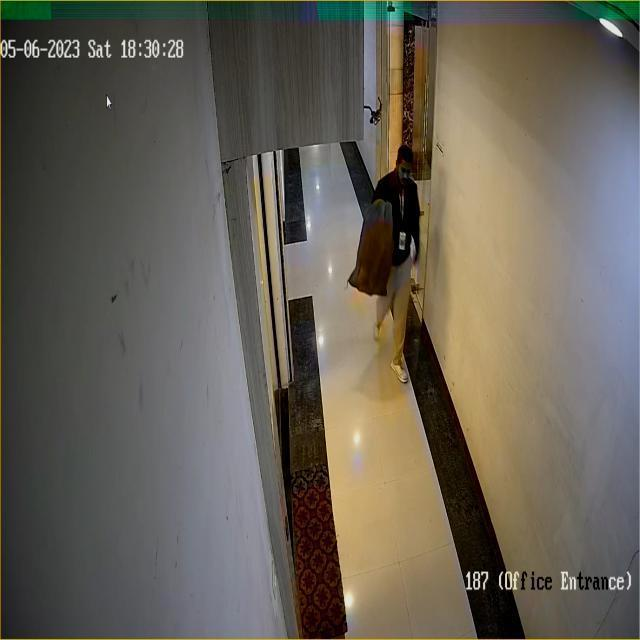gunny_bag: (348, 195, 396, 302)
